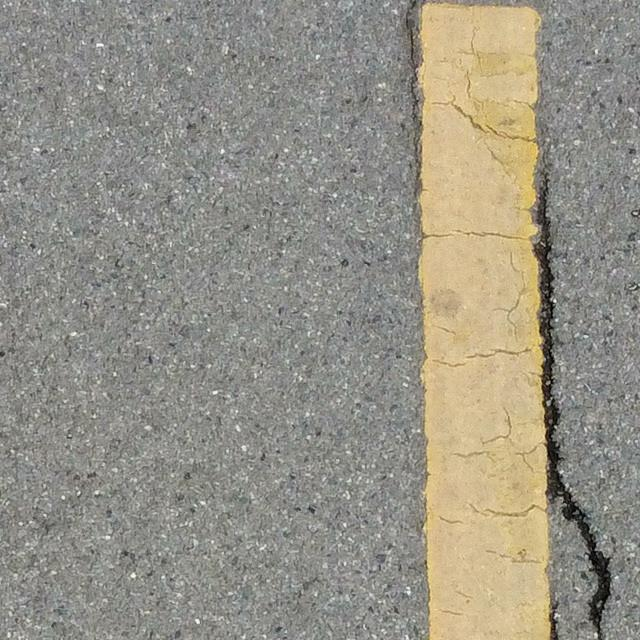LongitudinalCrack: (530, 171, 610, 640)
